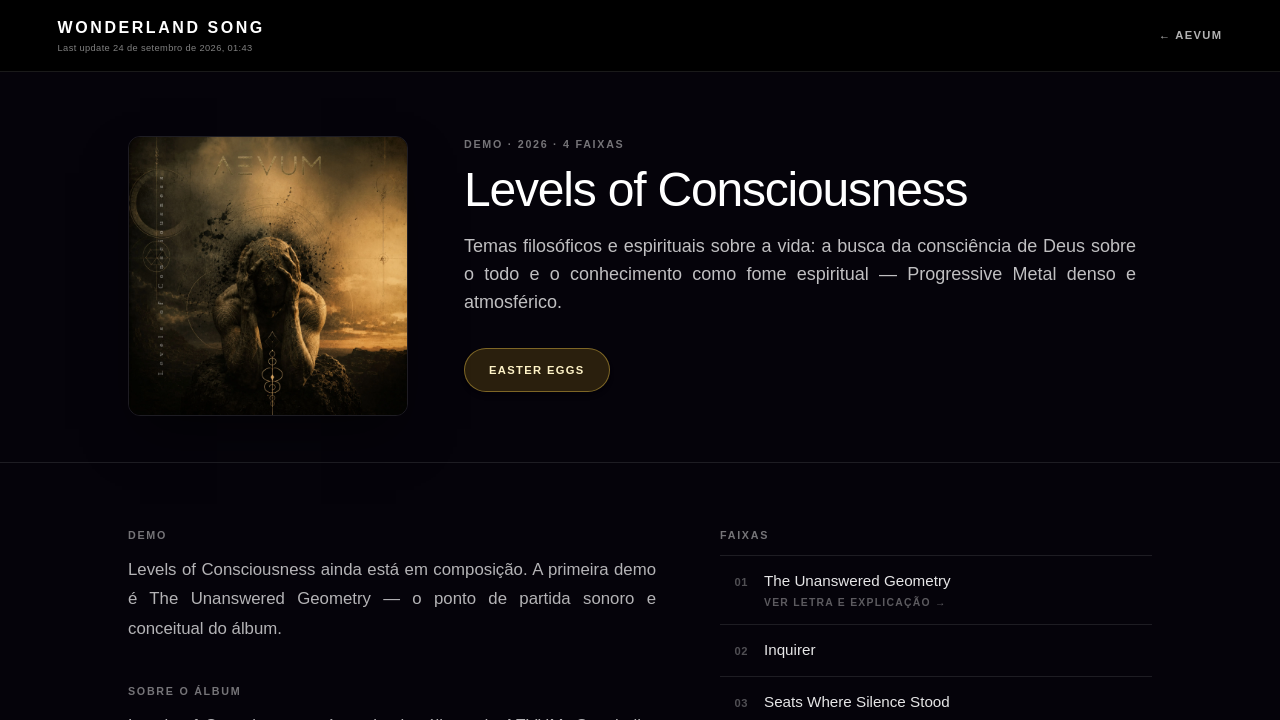
App › opens AEVUM Easter Eggs with revelations for each track
Click the button "Easter Eggs": (537, 370) [464,348,610,392]
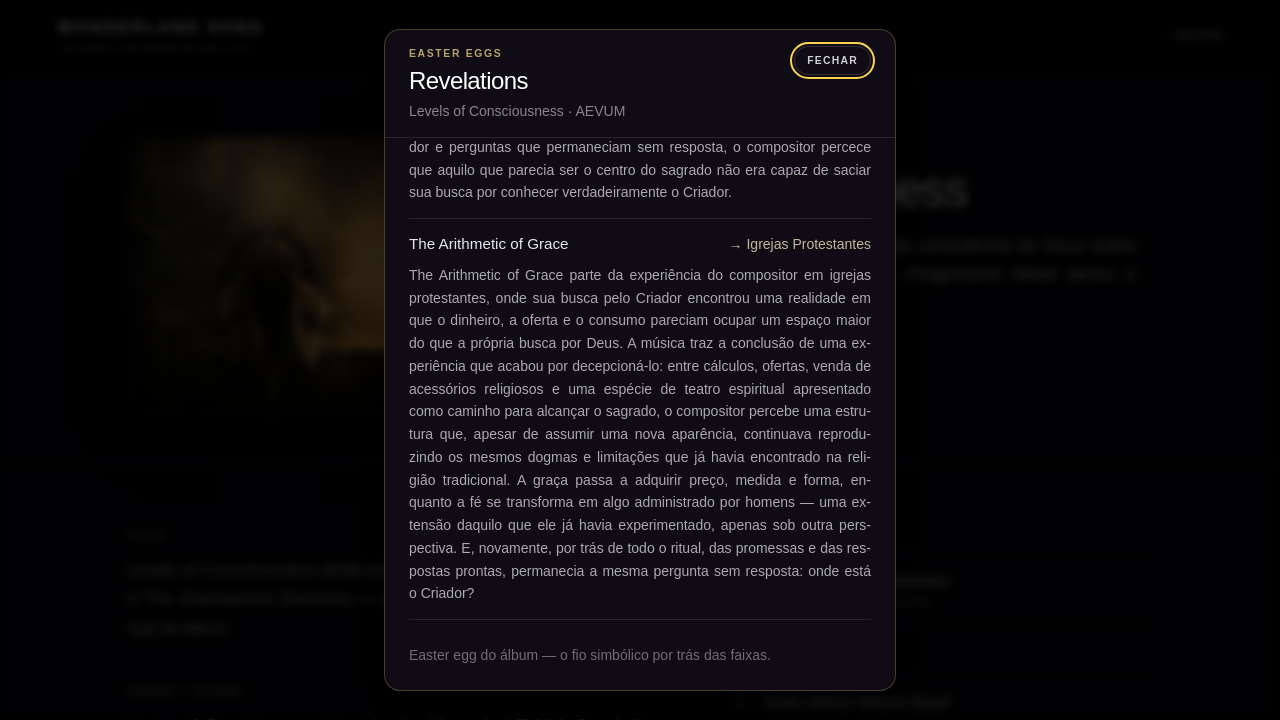
Now the dialog "Revelations" is shown
Now the text "→ Igrejas Protestantes" is shown, box [729,234,871,254]
Now the text "onde está o Criador" is shown, box [409,267,871,601]
